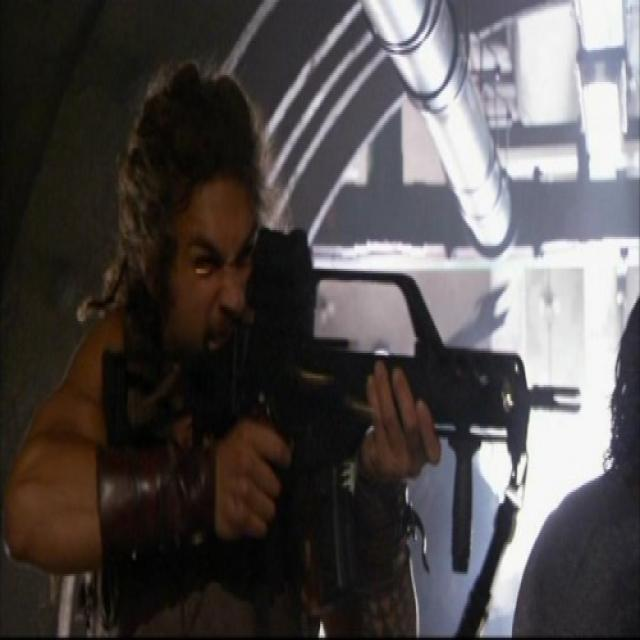rifle: (234, 230, 590, 582)
